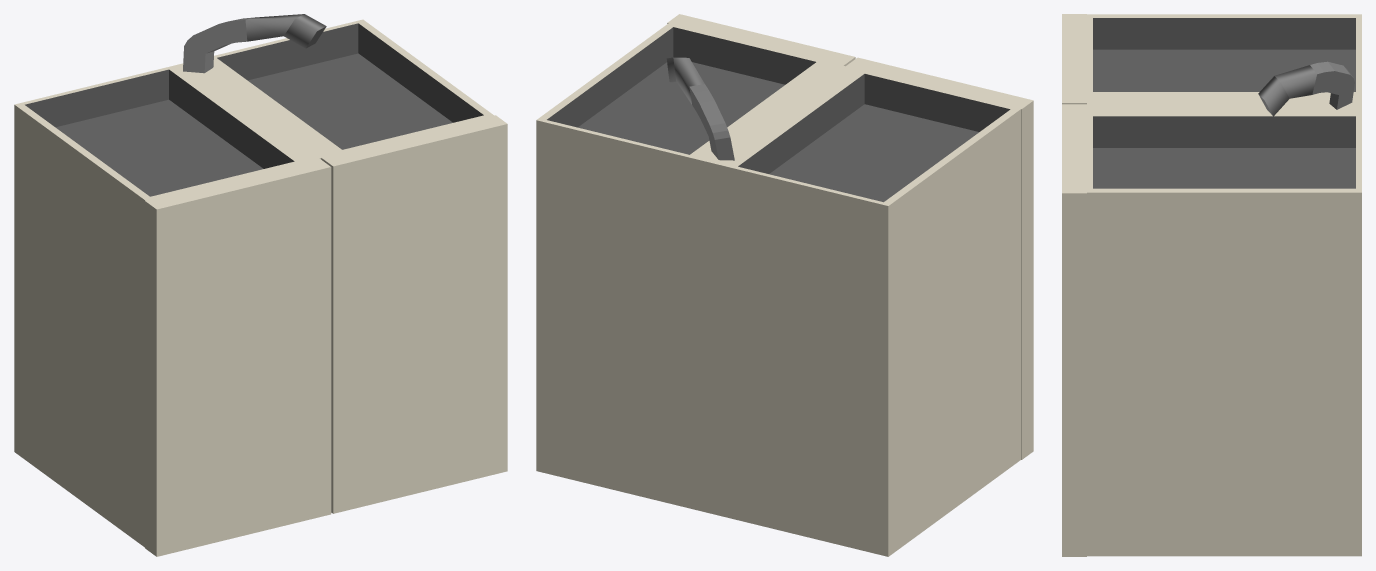
Rendered from cabinetSink2.fbx.
3 views of the same model, side by side, from view 1: azimuth 30°, elevation 25°; view 2: azimuth 150°, elevation 25°; view 3: azimuth 270°, elevation 25° (orthographic). The views are drawn at different scales.
Visible parts, largest first — view 1: CabinetSink, Cube.001, Cube.002, Faucet; view 2: CabinetSink, Cube.001, Faucet, Cube.002; view 3: CabinetSink, Cube.002, Faucet, Cube.001.
Part boxes in pixels (x1,y1,x2,y2): CabinetSink: [14, 19, 493, 547]; Cube.001: [145, 158, 331, 556]; Cube.002: [321, 115, 507, 513]; Faucet: [183, 14, 326, 73]; CabinetSink: [536, 23, 1020, 556]; Cube.001: [846, 57, 1033, 459]; Faucet: [666, 57, 734, 160]; Cube.002: [667, 14, 855, 66]; CabinetSink: [1087, 14, 1361, 556]; Cube.002: [1062, 104, 1086, 556]; Faucet: [1258, 61, 1354, 116]; Cube.001: [1062, 14, 1086, 104].
Bounding box in the file's own units: 309 × 341 × 218.
